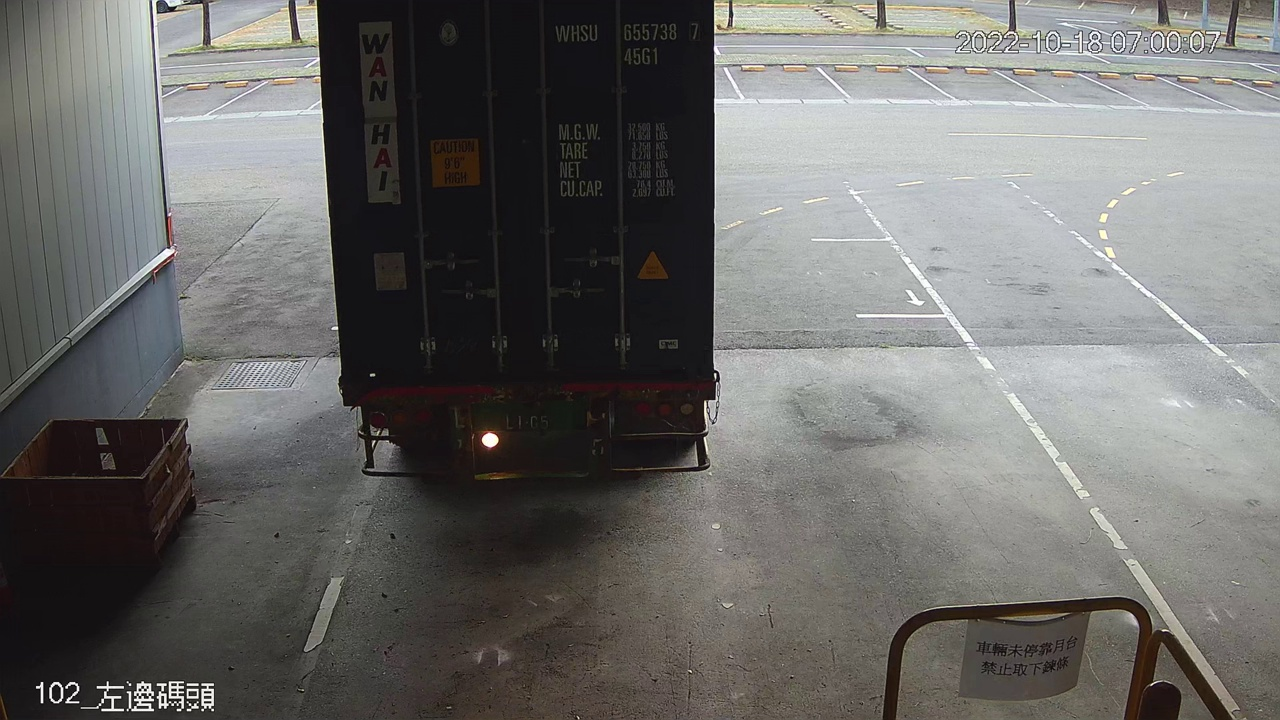container: (548, 16, 707, 72)
